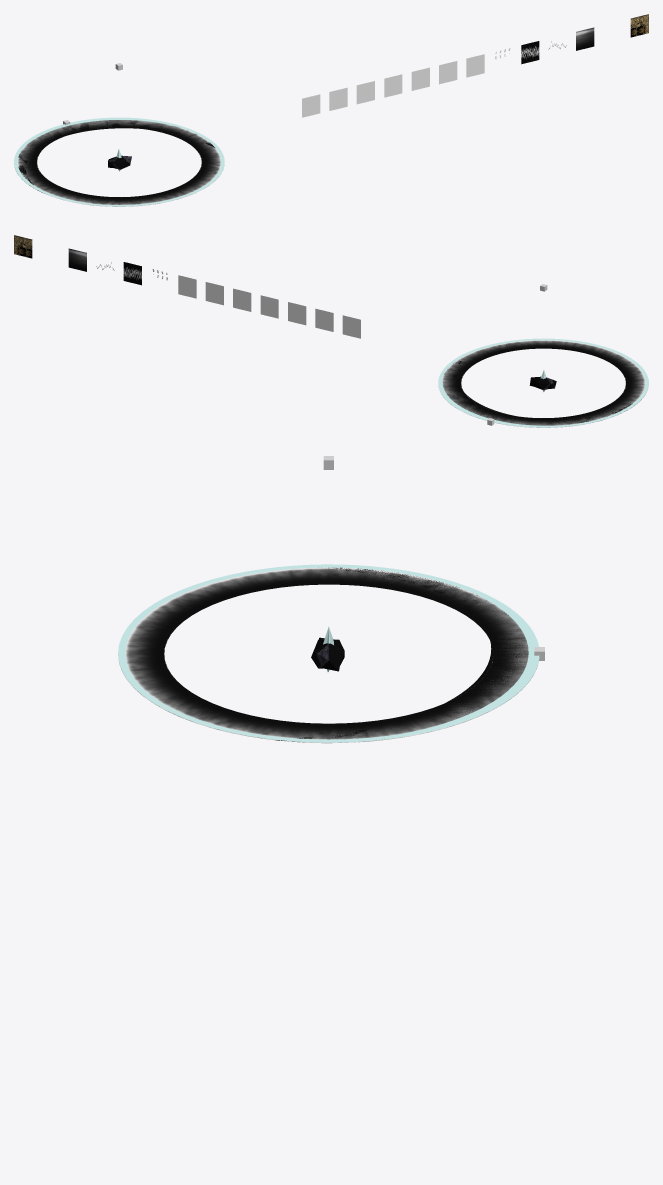
File: MoFengVFX.fbx
3 views of the same model, one above another, from view 1: azimuth 30°, elevation 25°; view 2: azimuth 150°, elevation 25°; view 3: azimuth 270°, elevation 25° (orthographic). The views are drawn at different scales.
Visible parts, largest first — view 1: ShockRing, SlashArc, RingCore, SlashCore, Tex_Trail, Tex_RingSprite, Tex_Smoke, Tex_Spark, Tex_Ember, Tex_Glow, Tex_HiltGold, Tex_Beam (+2 smaller); view 2: ShockRing, RingCore, SlashArc, SlashCore, Tex_Trail, Tex_HiltGold, Tex_RingSprite, Tex_Smoke, Tex_Spark, Tex_Ember, Tex_Glow, Tex_Beam (+2 smaller); view 3: ShockRing, RingCore, SlashArc, SlashCore.
Boxes of the visible parts, left/top/right/bottom form: ShockRing: left=17, top=120, right=221, bottom=206; SlashArc: left=17, top=120, right=214, bottom=192; RingCore: left=14, top=117, right=224, bottom=206; SlashCore: left=14, top=117, right=219, bottom=189; Tex_Trail: left=576, top=27, right=594, bottom=50; Tex_RingSprite: left=466, top=54, right=484, bottom=77; Tex_Smoke: left=411, top=67, right=429, bottom=90; Tex_Spark: left=329, top=87, right=347, bottom=110; Tex_Ember: left=384, top=74, right=402, bottom=97; Tex_Glow: left=302, top=94, right=320, bottom=117; Tex_HiltGold: left=630, top=14, right=648, bottom=37; Tex_Beam: left=521, top=41, right=539, bottom=64; ShockRing: left=441, top=340, right=646, bottom=427; RingCore: left=438, top=338, right=648, bottom=427; SlashArc: left=443, top=359, right=641, bottom=427; SlashCore: left=438, top=365, right=642, bottom=427; Tex_Trail: left=68, top=248, right=86, bottom=271; Tex_HiltGold: left=14, top=235, right=32, bottom=258; Tex_RingSprite: left=178, top=275, right=196, bottom=298; Tex_Smoke: left=233, top=288, right=251, bottom=311; Tex_Spark: left=315, top=308, right=333, bottom=331; Tex_Ember: left=260, top=295, right=278, bottom=318; Tex_Glow: left=342, top=315, right=360, bottom=338; Tex_Beam: left=123, top=262, right=141, bottom=285; ShockRing: left=118, top=567, right=538, bottom=743; RingCore: left=118, top=564, right=539, bottom=742; SlashArc: left=275, top=567, right=537, bottom=743; SlashCore: left=276, top=564, right=539, bottom=742.
Size of the model in its own units: 6.8 by 1.12 by 2.02.
16 materials, 15 textured.
